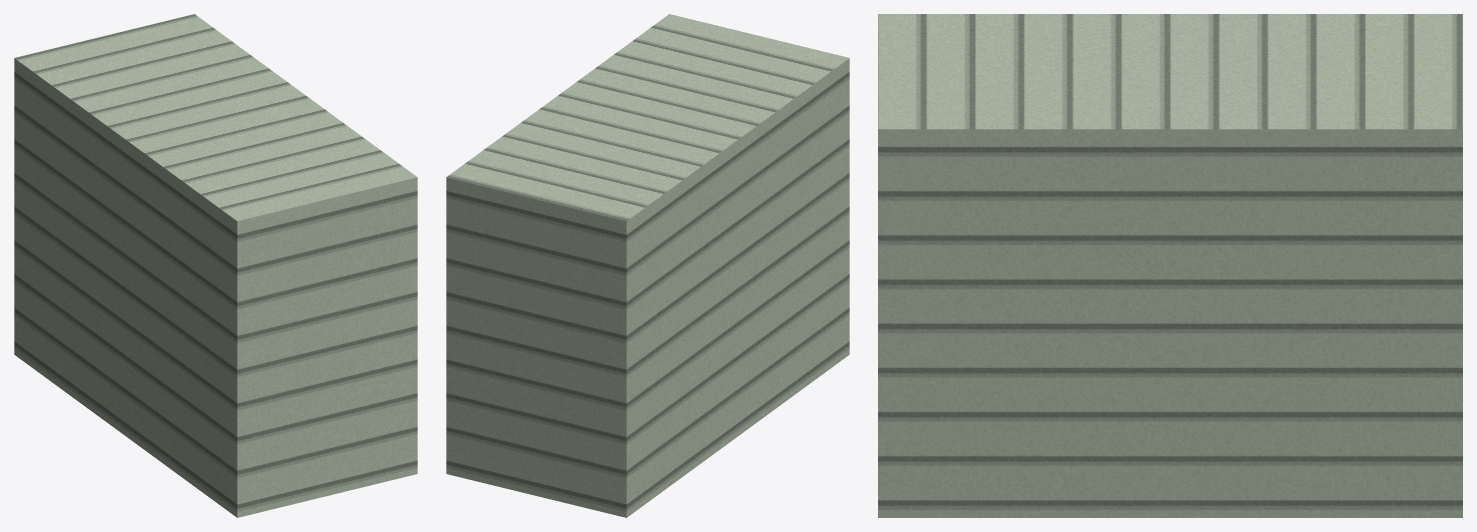
The model's file is milking_stanchion.glb.
3 views of the same model, side by side, from view 1: azimuth 30°, elevation 25°; view 2: azimuth 150°, elevation 25°; view 3: azimuth 270°, elevation 25° (orthographic). The views are drawn at different scales.
Parts seen in each view (by area): view 1: milking_stanchion-col; view 2: milking_stanchion-col; view 3: milking_stanchion-col.
Part boxes in pixels (left/top/right/bottom): milking_stanchion-col: left=14, top=14, right=417, bottom=517; milking_stanchion-col: left=446, top=14, right=849, bottom=517; milking_stanchion-col: left=878, top=14, right=1462, bottom=517.
Bounding box in the file's own units: 0.7 × 1.1 × 1.5.
Materials: 1 (1 with a texture image).
